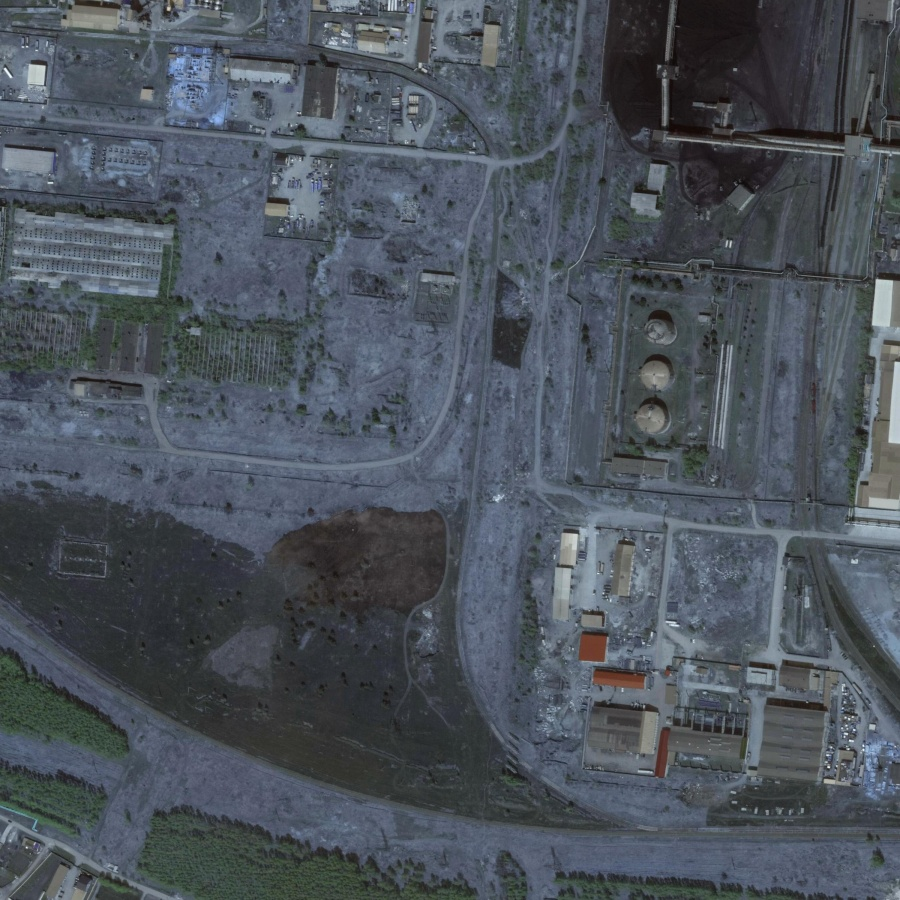PowerPlant: (595, 252, 743, 494)
